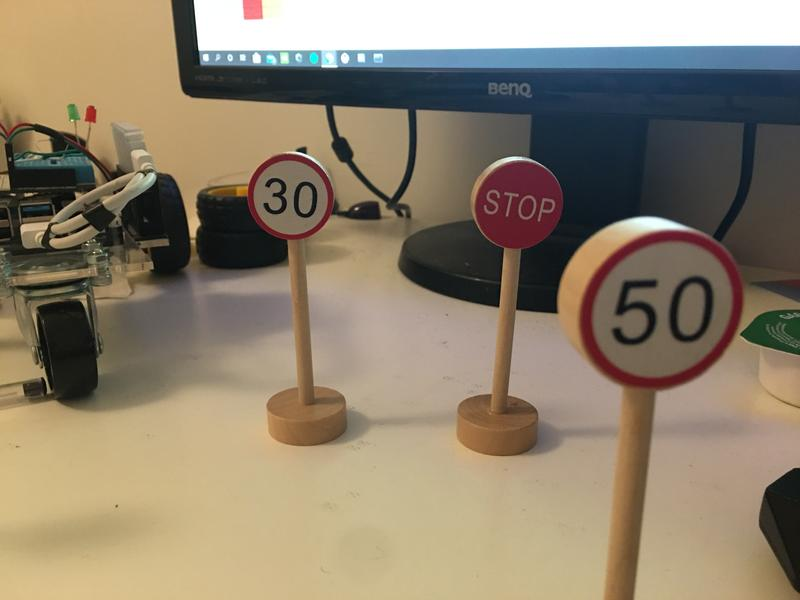Traffic_Sign_30: (248, 156, 332, 239)
Traffic_Sign_50: (580, 234, 741, 387)
Traffic_Sign_Stop: (475, 156, 561, 249)
